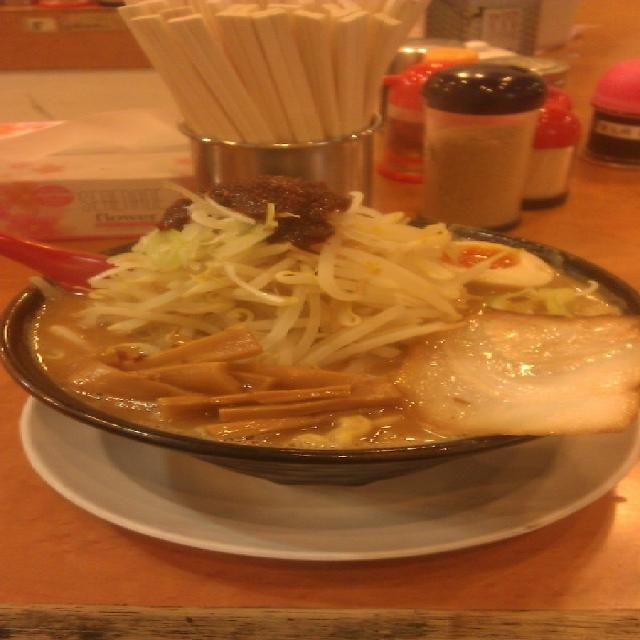面条主食: (0, 165, 638, 572)
